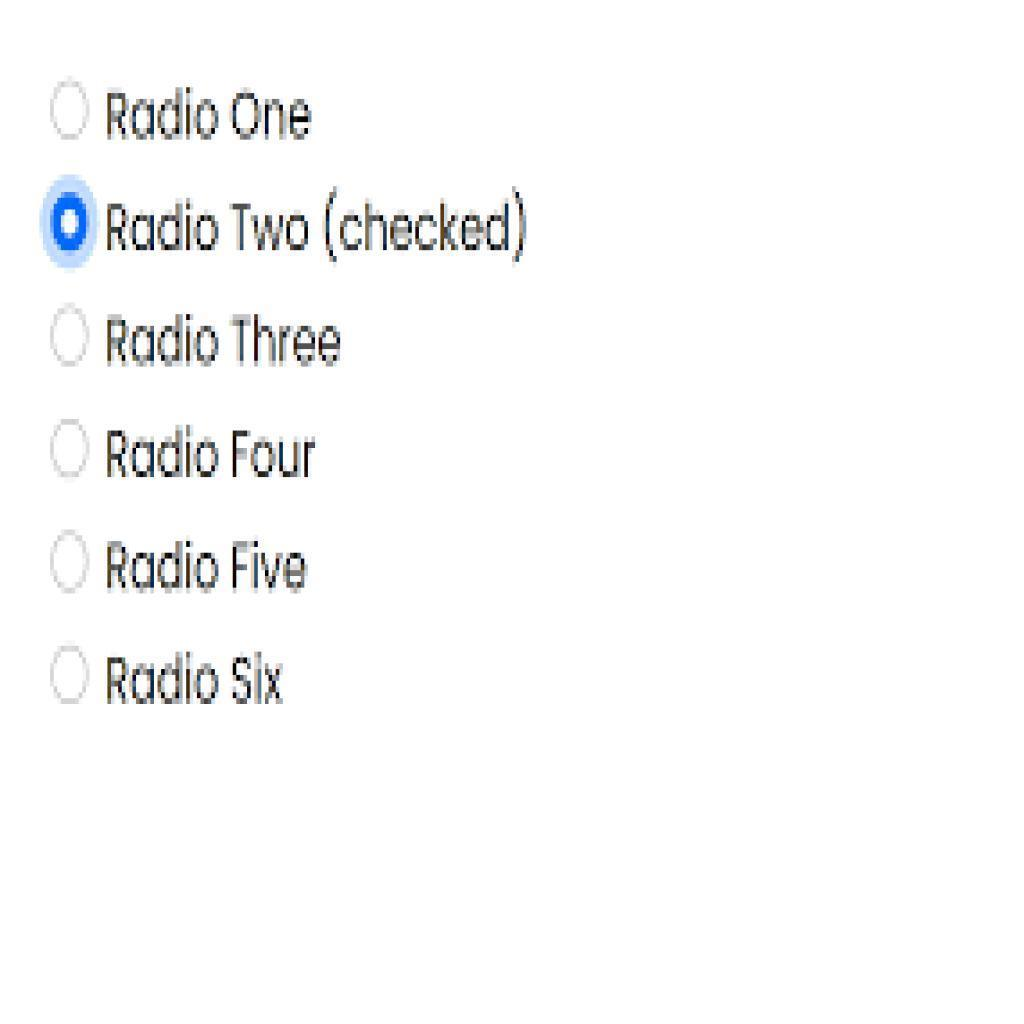radio: (41, 175, 102, 270), (45, 72, 93, 141), (48, 304, 92, 369), (50, 531, 93, 596), (51, 641, 92, 707), (49, 420, 91, 483)
